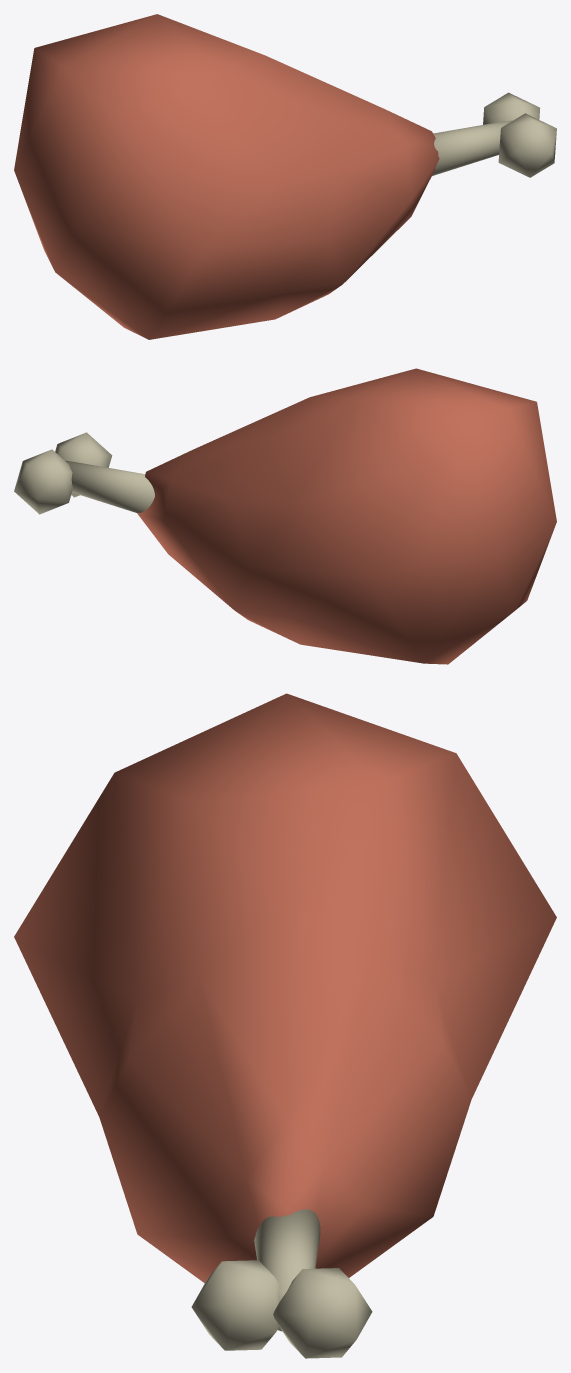
File: Chicken-Lowpoly.fbx
The picture shows the model from 3 angles, top to bottom: view 1: azimuth 30°, elevation 25°; view 2: azimuth 150°, elevation 25°; view 3: azimuth 270°, elevation 25°; orthographic projection. The views are drawn at different scales.
Parts seen in each view (by area): view 1: Chicken; view 2: Chicken; view 3: Chicken.
Part boxes in pixels (left/top/right/bottom): Chicken: left=14, top=14, right=556, bottom=339; Chicken: left=14, top=368, right=556, bottom=664; Chicken: left=14, top=693, right=556, bottom=1358.
Bounding box in the file's own units: 81.62 × 42.83 × 49.17.
